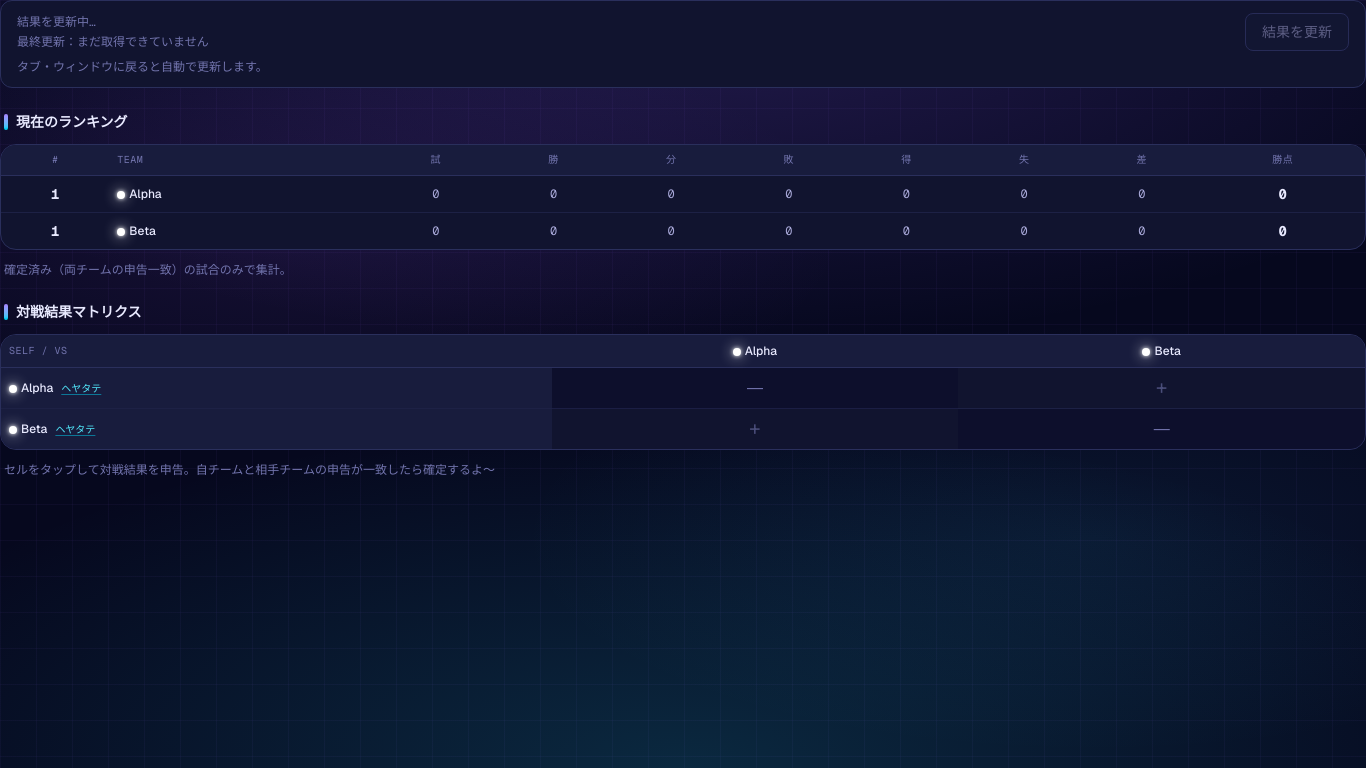
MatchMatrix result refresh › opens the selected SELF team's Heyatate modal
Click the 2nd button "ヘヤタテ". click: coordinates (75, 429)
box: [55,423,95,436]
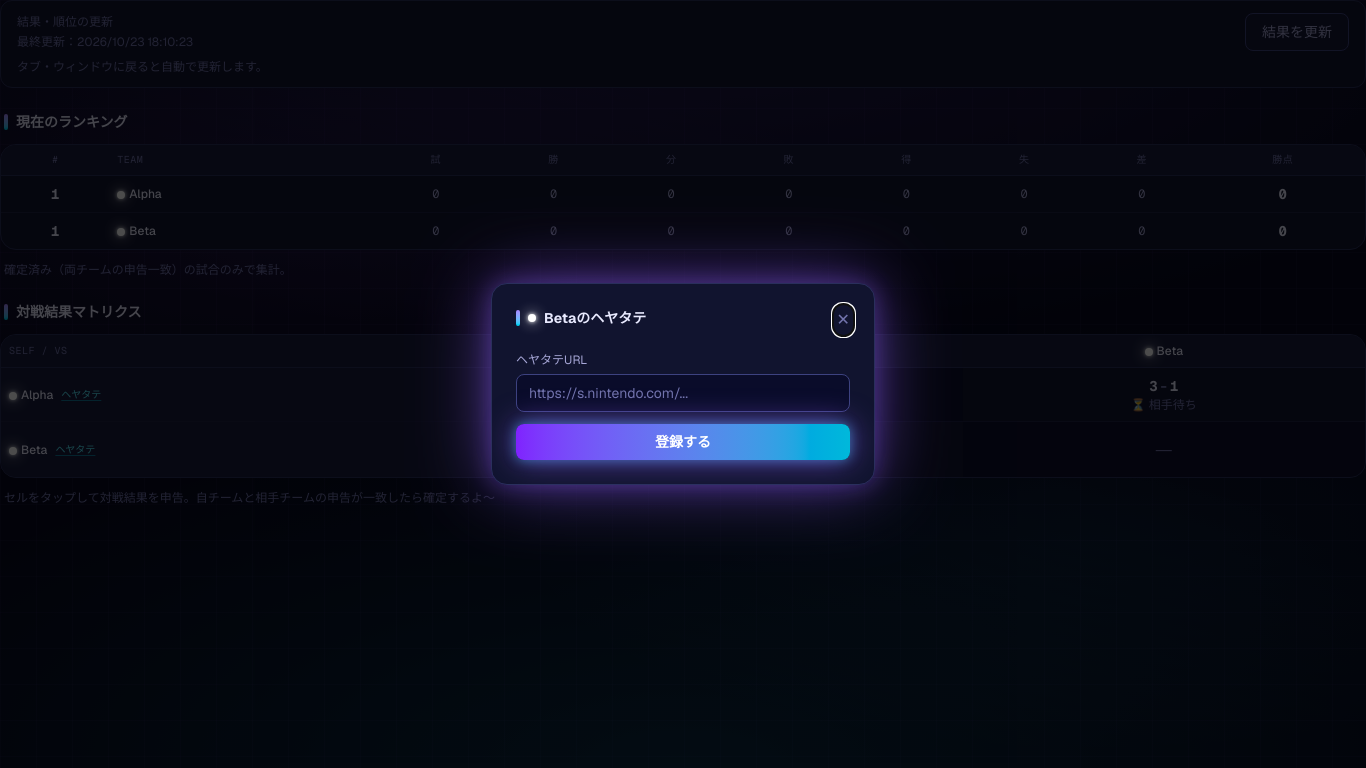
Expected: the dialog "Betaのヘヤタテ" is shown
